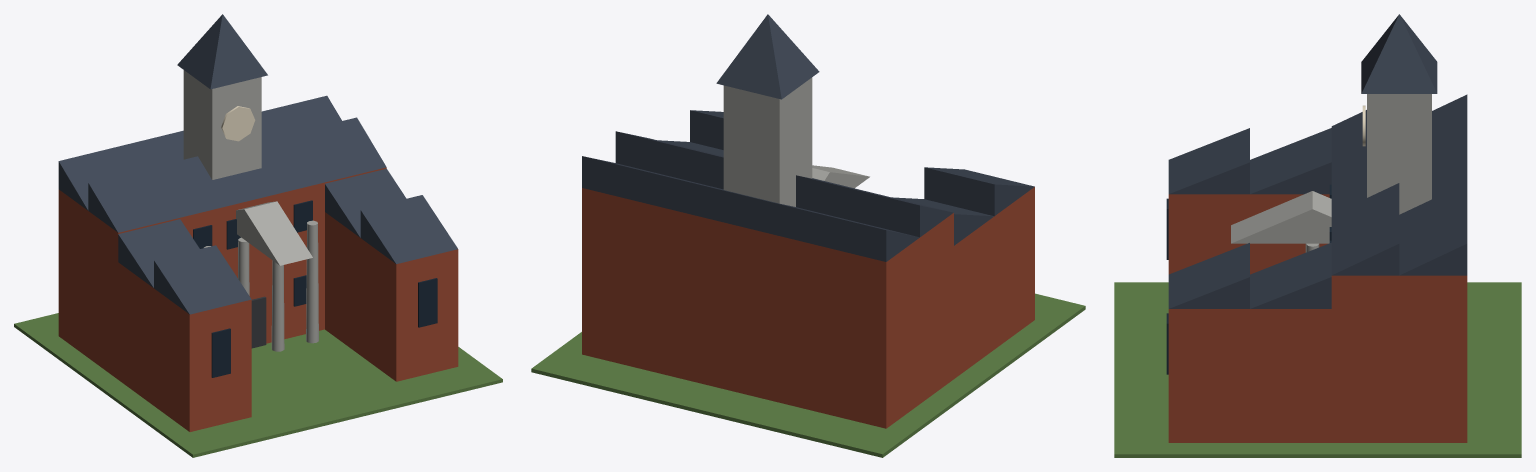
The model's file is bld_special_university_a05_lod1.glb.
3 renders of one model, left to right at view 1: azimuth 30°, elevation 25°; view 2: azimuth 150°, elevation 25°; view 3: azimuth 270°, elevation 25°, orthographic. The views are drawn at different scales.
Parts seen in each view (by area): view 1: body; view 2: body; view 3: body.
Part boxes in pixels (x1,y1,x2,y2): body: (14, 14, 502, 457); body: (531, 14, 1085, 457); body: (1114, 14, 1521, 457).
Size of the model in its own units: 15 by 14.55 by 15.
